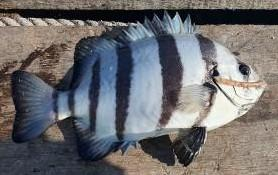fish: (11, 10, 267, 167)
